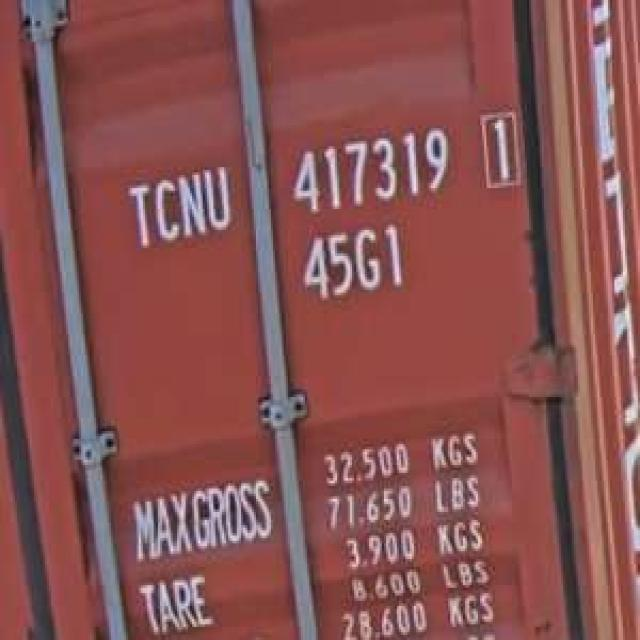dv: (473, 102, 522, 191)
owner: (121, 151, 236, 251)
serial: (286, 117, 454, 217)
size: (294, 219, 414, 311)
